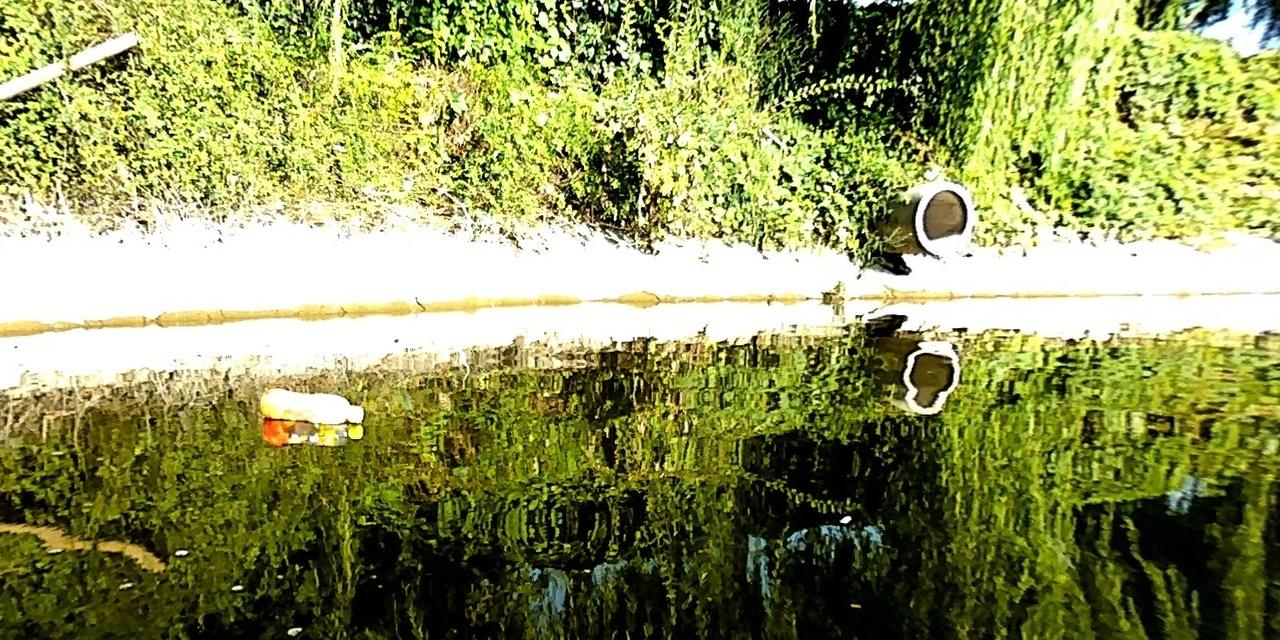bottle: (260, 388, 360, 423)
